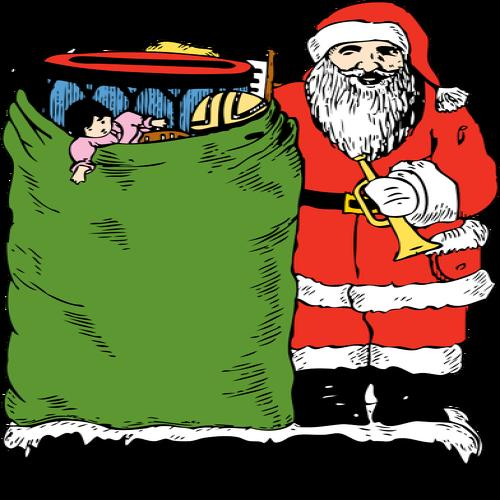Santa: (264, 0, 500, 427)
